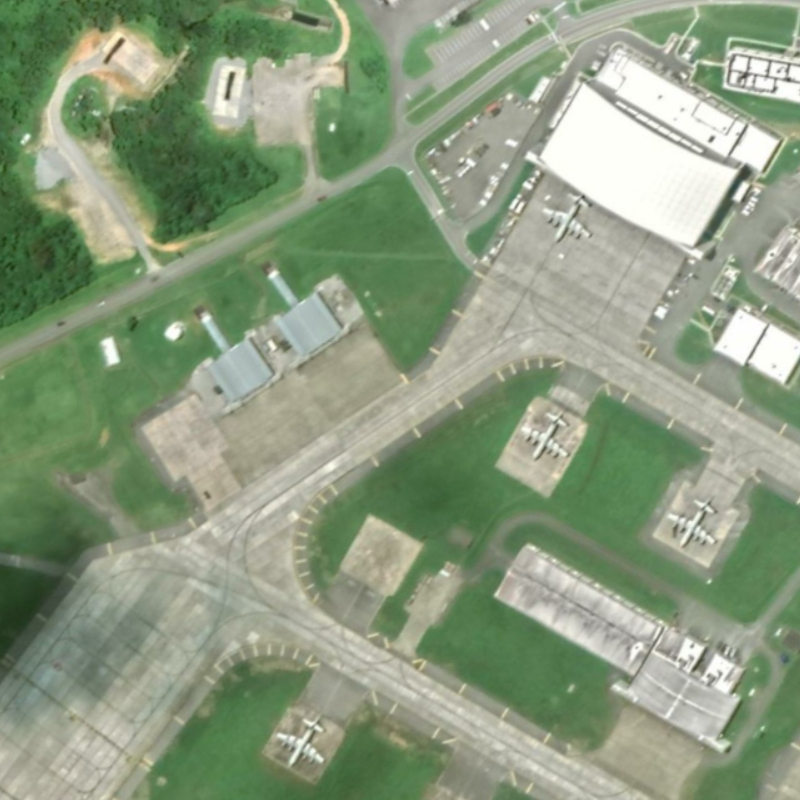A9: (513, 402, 575, 472), (659, 492, 723, 554), (537, 189, 600, 250), (273, 707, 330, 774)
